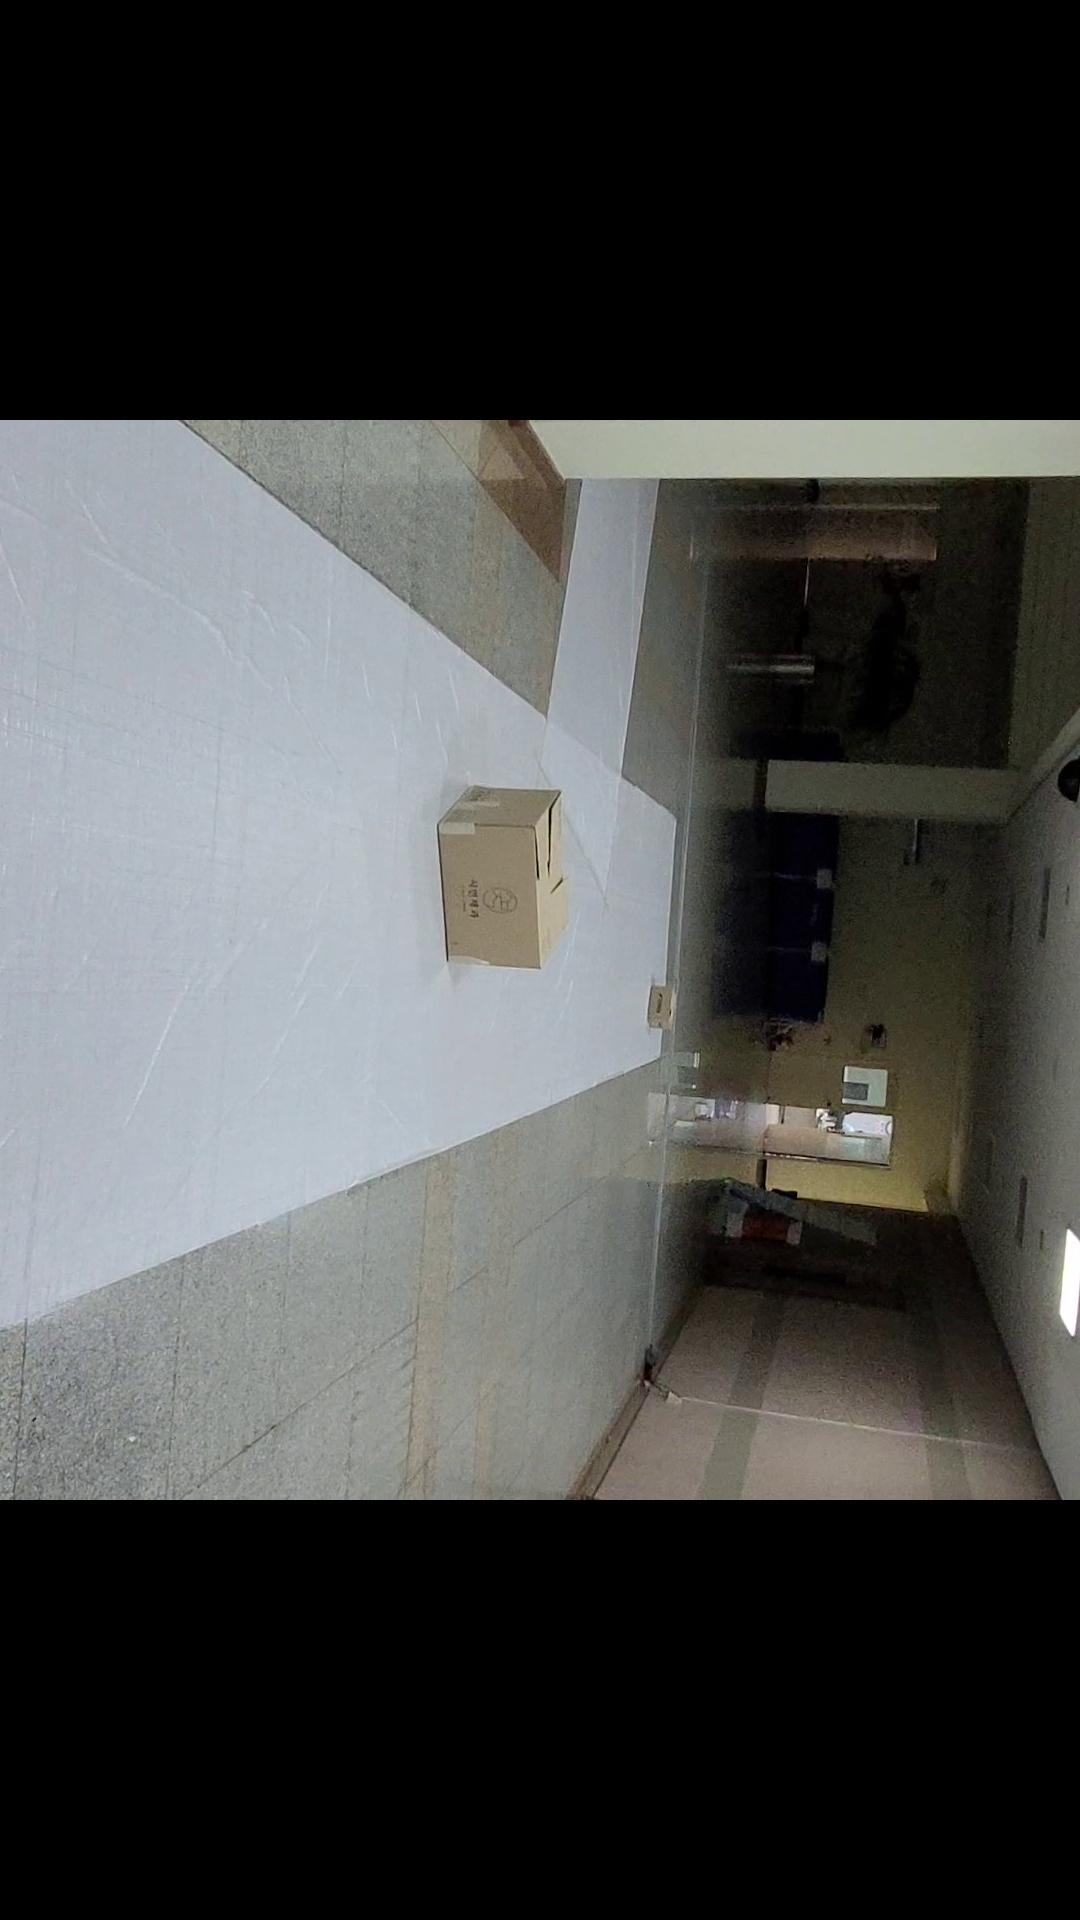Box: (433, 786, 585, 973), (630, 973, 680, 1036)
